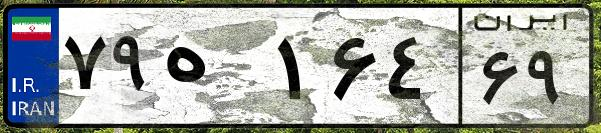1: (270, 28, 330, 110)
4: (385, 28, 445, 110)
6: (330, 28, 385, 110), (475, 38, 525, 113)
7: (57, 26, 110, 100)
9: (525, 38, 570, 115), (110, 28, 158, 98)
ه: (158, 20, 270, 120)
